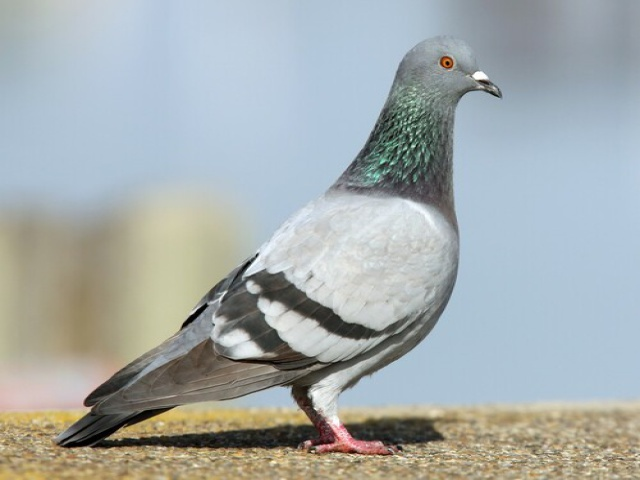Pigeon: (48, 33, 511, 466)
